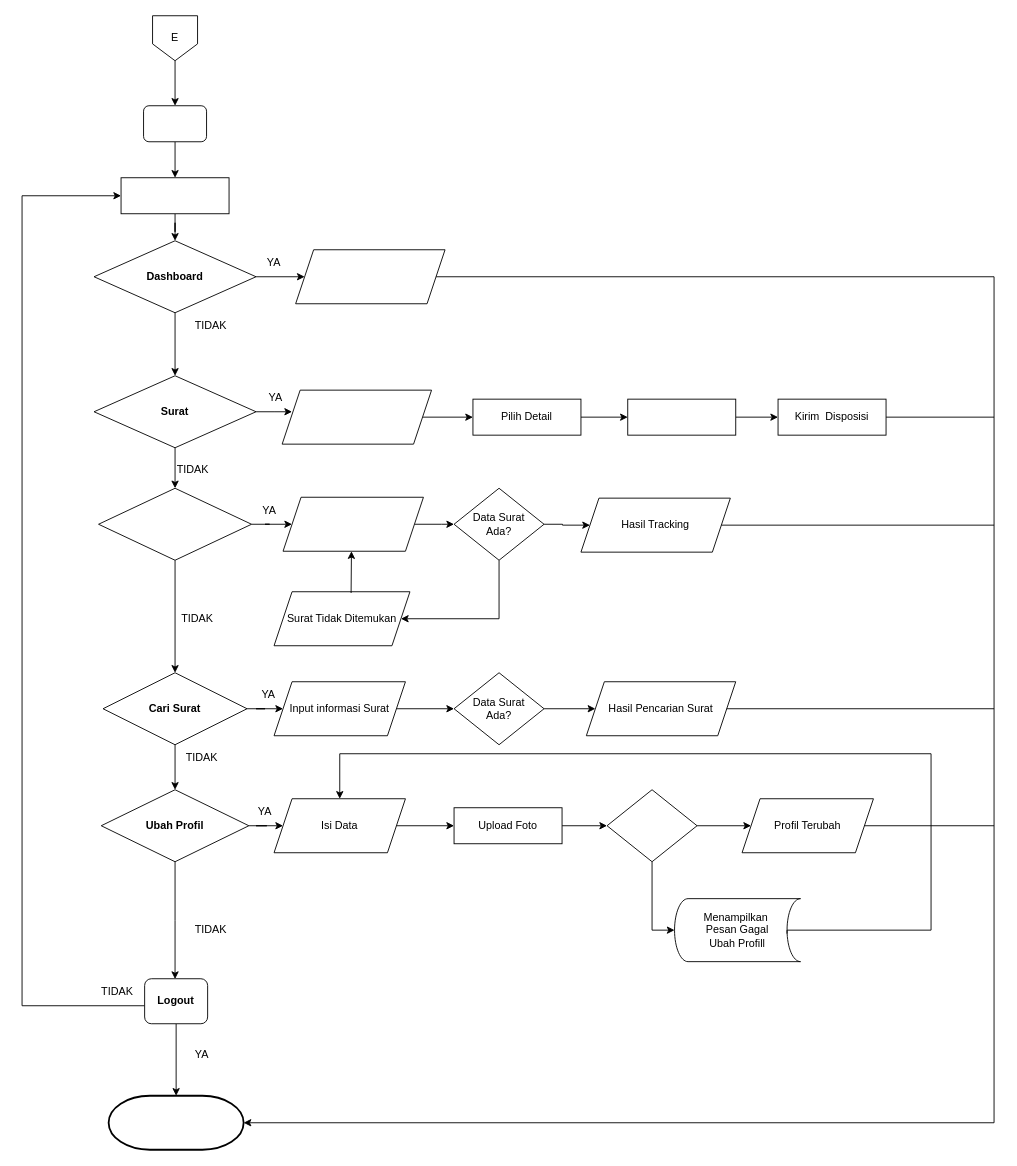
This 1017x1166 diagram has some shape labels left out. The centre of each missing label's shape, as x and y in pixels:
Data Valid: the point at 651,825
Input Disposisi: the point at 681,416
Input jenis Surat: the point at 356,416
Input Nomor Surat: the point at 352,523
Login: the point at 175,123
Pilih Menu: the point at 174,195
Selesai: the point at 175,1122
Tabel Surat Masuk, Surat Keluar, Surat Disposisi: the point at 370,276
Tracking: the point at 175,523
